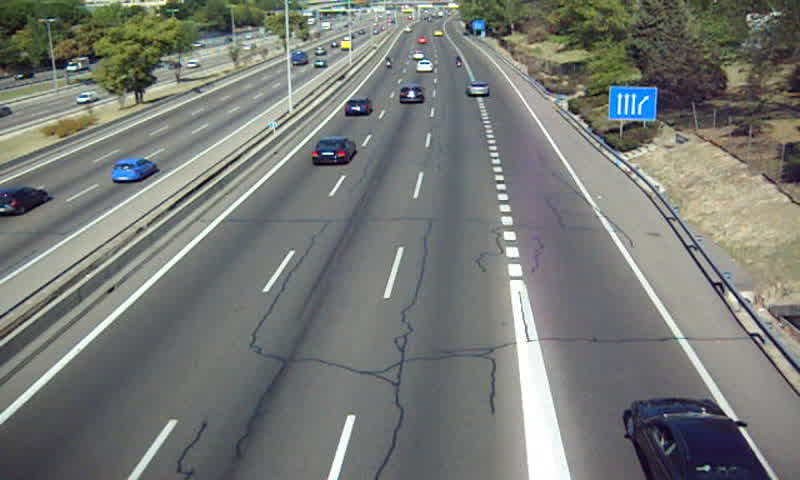car: (629, 398, 769, 480), (309, 137, 355, 167), (398, 83, 424, 104), (345, 98, 372, 118), (466, 81, 491, 98), (415, 58, 433, 73)
motorcycle: (454, 55, 466, 70), (385, 54, 394, 72)
